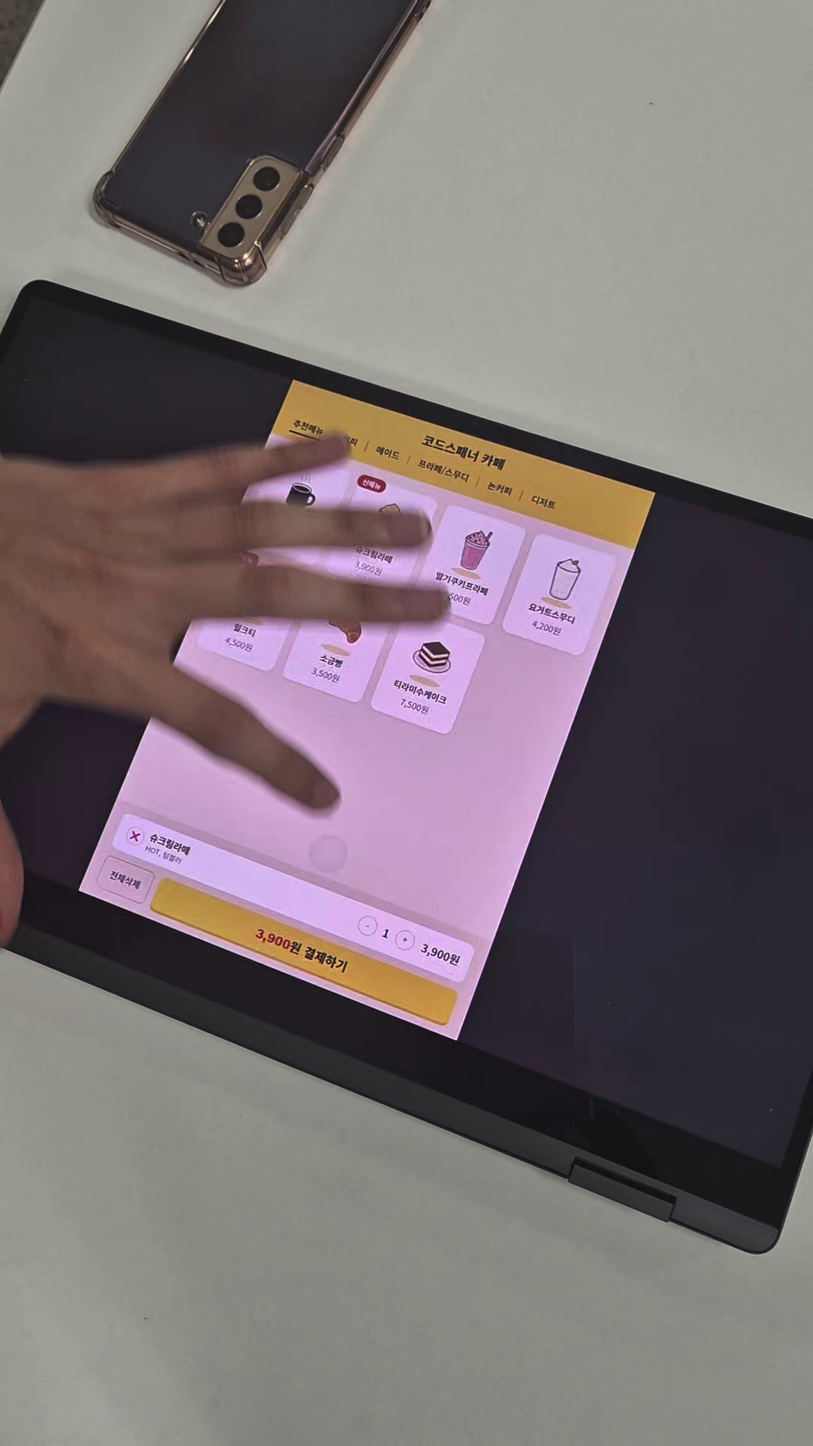action_button: (149, 878, 460, 1028), (94, 853, 155, 906)
cart_item: (106, 810, 479, 987)
category_tab: (414, 456, 474, 486), (282, 413, 329, 445), (525, 490, 561, 514), (371, 442, 405, 464), (483, 478, 517, 499)
menu_back: (316, 471, 444, 605), (365, 609, 489, 740), (404, 500, 529, 629), (499, 530, 622, 660)
menu_name: (391, 676, 453, 708), (431, 567, 491, 600), (524, 601, 580, 628), (349, 542, 397, 568), (316, 649, 349, 672), (227, 620, 260, 641)
menu_price: (348, 556, 387, 581), (396, 695, 433, 719), (307, 665, 345, 687), (527, 618, 565, 638), (221, 633, 255, 655)
